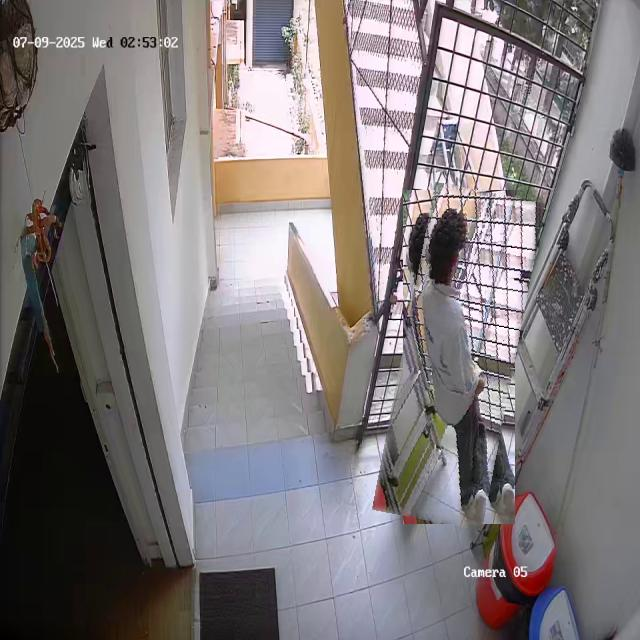person: (388, 186, 530, 528)
